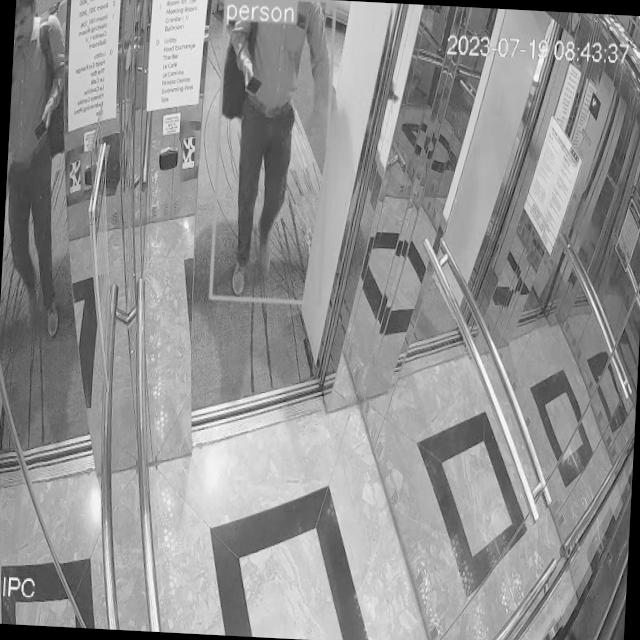person: (210, 0, 340, 305)
